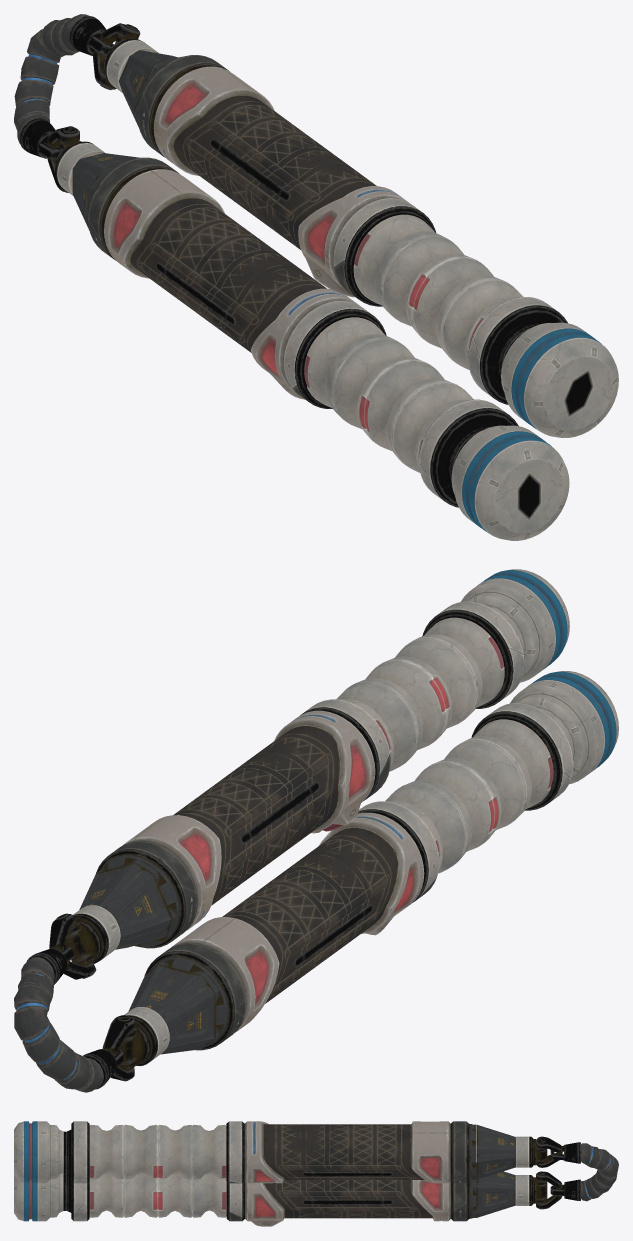
3 views of the same model, one above another, from view 1: azimuth 30°, elevation 25°; view 2: azimuth 150°, elevation 25°; view 3: azimuth 270°, elevation 25° (orthographic). The views are drawn at different scales.
Visible parts, largest first — view 1: body_0_ash_heirloom.001_ash_heirloom_0; view 2: body_0_ash_heirloom.001_ash_heirloom_0; view 3: body_0_ash_heirloom.001_ash_heirloom_0.
Part boxes in pixels (bbox=[...]): body_0_ash_heirloom.001_ash_heirloom_0: bbox=[14, 14, 618, 540]; body_0_ash_heirloom.001_ash_heirloom_0: bbox=[14, 569, 618, 1092]; body_0_ash_heirloom.001_ash_heirloom_0: bbox=[14, 1121, 618, 1226].
Bounding box in the file's own units: 2.29 × 2.97 × 14.57.
1 material, 1 textured.
